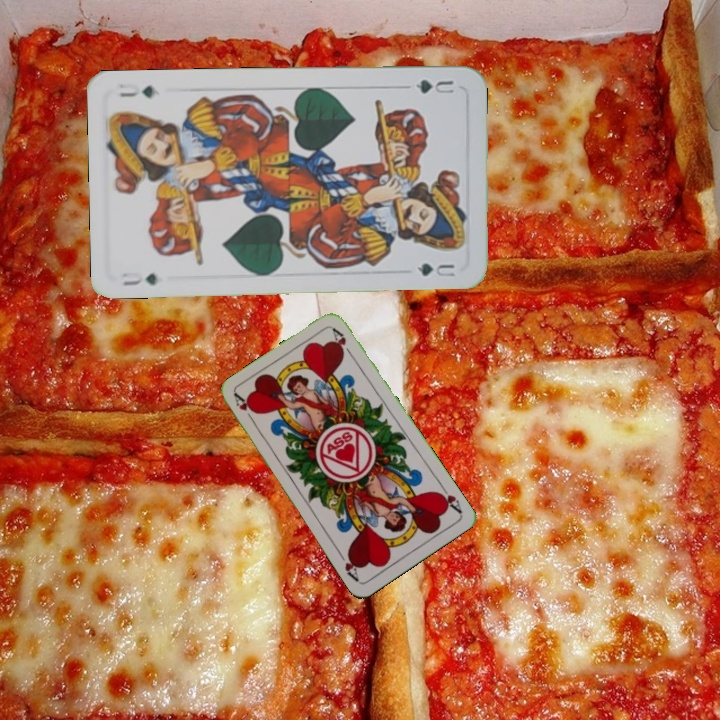GU: (411, 76, 457, 97), (117, 268, 161, 288)
HA: (432, 480, 464, 516), (230, 390, 258, 427)
